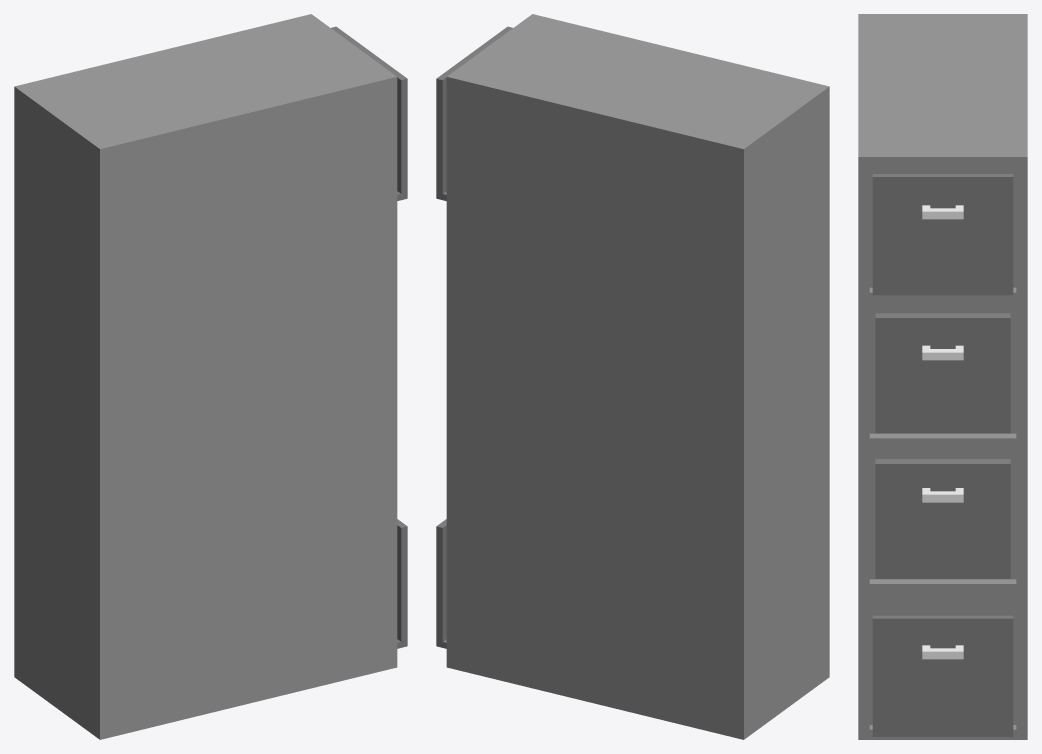
Rendered from Large_Cabinet.fbx.
The picture shows the model from 3 angles, left to right: view 1: azimuth 30°, elevation 25°; view 2: azimuth 150°, elevation 25°; view 3: azimuth 270°, elevation 25°; orthographic projection.
Parts seen in each view (by area): view 1: Cabinet3; view 2: Cabinet3; view 3: Cabinet3.
Boxes of the visible parts, box(x1,y1,x2,y2) form: Cabinet3: box(14, 14, 407, 739); Cabinet3: box(436, 14, 829, 739); Cabinet3: box(858, 14, 1027, 739).
Size of the model in its own units: 66.28 by 114 by 30.
